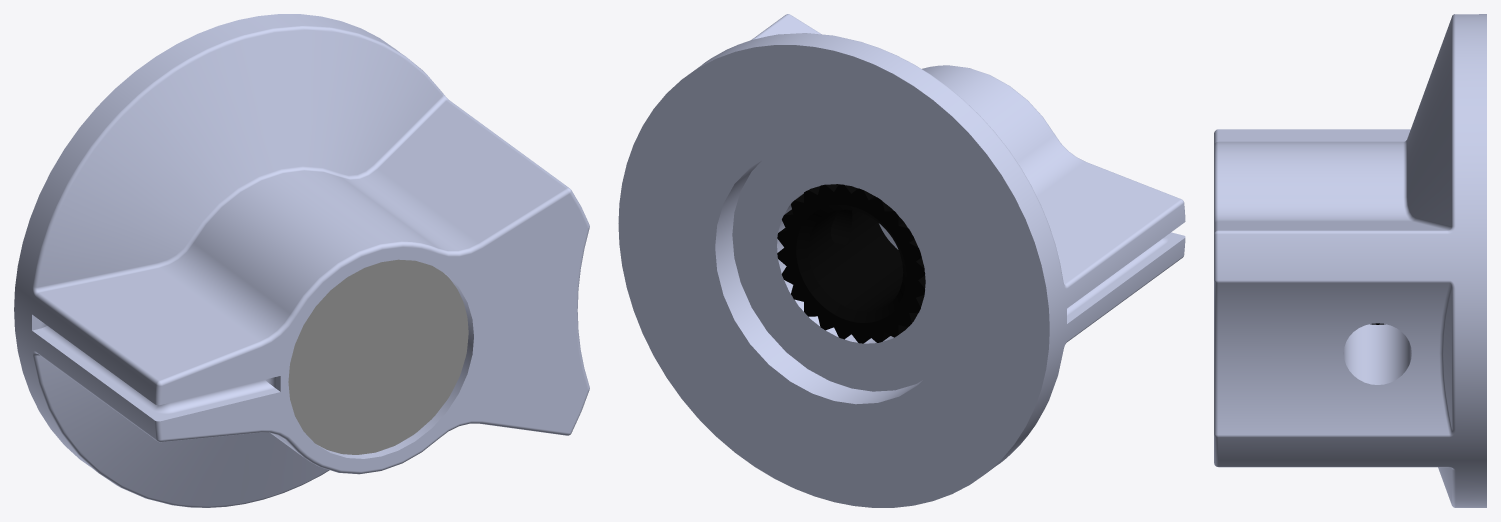
Rendered from Knob.fbx.
The picture shows the model from 3 angles, left to right: view 1: azimuth 30°, elevation 25°; view 2: azimuth 150°, elevation 25°; view 3: azimuth 270°, elevation 25°; orthographic projection. The views are drawn at different scales.
Parts seen in each view (by area): view 1: Body1 (×2); view 2: Body1 (×2); view 3: Body1.
Boxes of the visible parts, box(x1,y1,x2,y2) form: Body1 (×2): box(14, 14, 589, 507); Body1 (×2): box(618, 14, 1185, 507); Body1: box(1214, 14, 1486, 507).
Size of the model in its own units: 1.14 by 1.14 by 0.6299.
